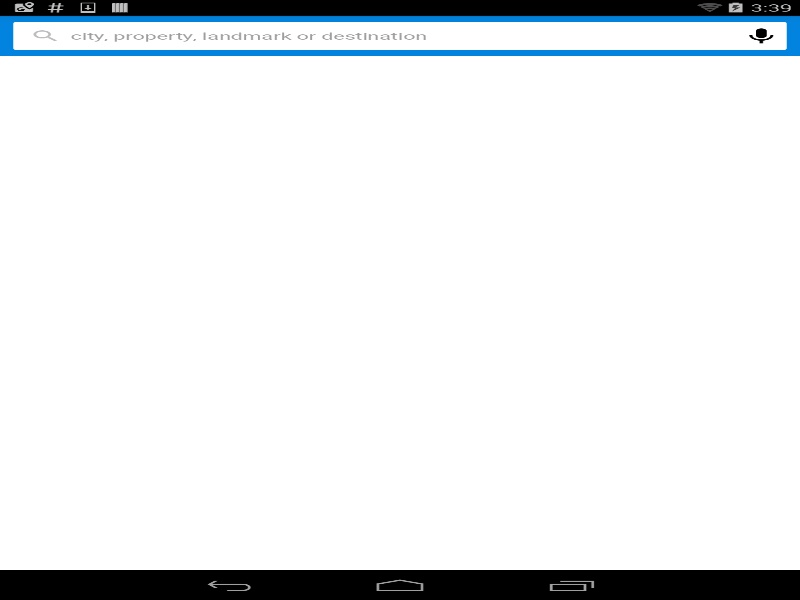Input: (13, 21, 736, 50)
